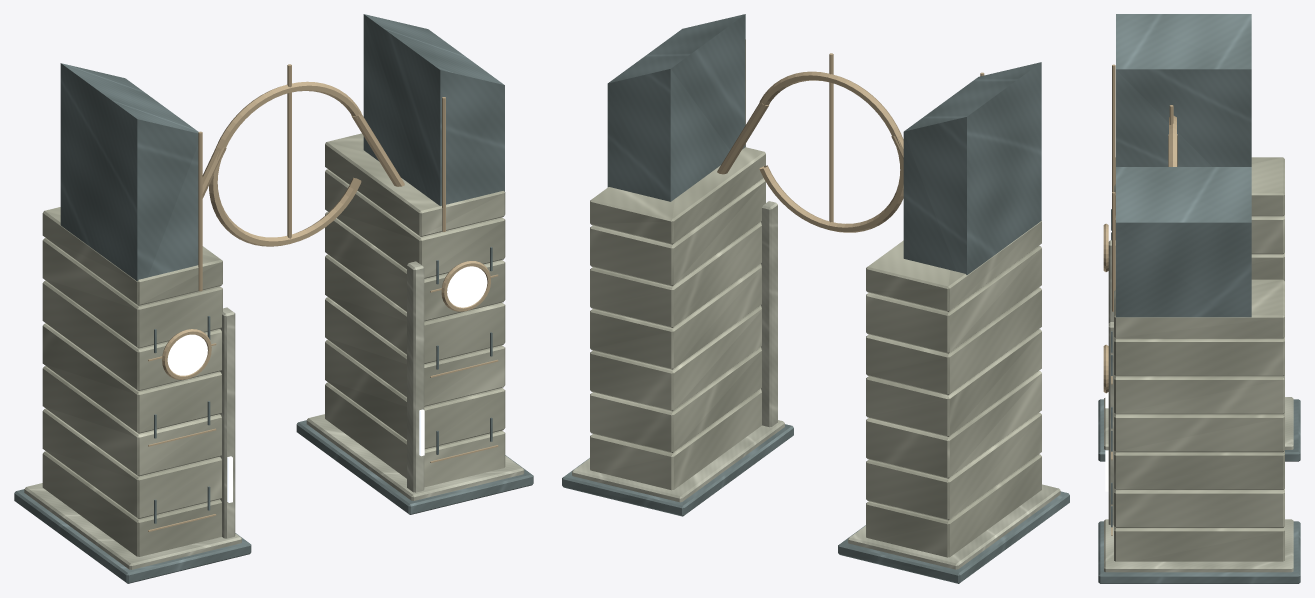
File: portal-shadow-v01.glb
3 renders of one model, left to right at view 1: azimuth 30°, elevation 25°; view 2: azimuth 150°, elevation 25°; view 3: azimuth 270°, elevation 25°, orthographic. The views are drawn at different scales.
Parts seen in each view (by area): view 1: shadow_Mumu_ivory_limestone, shadow_Mumu_blue_slate, shadow_Mumu_chisel_edges, shadow_Mumu_satin_brass, shadow_Mumu_shadow_light; view 2: shadow_Mumu_ivory_limestone, shadow_Mumu_blue_slate, shadow_Mumu_chisel_edges, shadow_Mumu_satin_brass; view 3: shadow_Mumu_ivory_limestone, shadow_Mumu_blue_slate, shadow_Mumu_chisel_edges, shadow_Mumu_satin_brass.
Boxes of the visible parts, bbox=[...] form: shadow_Mumu_ivory_limestone: bbox=[42, 133, 505, 556]; shadow_Mumu_blue_slate: bbox=[14, 14, 533, 583]; shadow_Mumu_chisel_edges: bbox=[24, 261, 524, 569]; shadow_Mumu_satin_brass: bbox=[148, 64, 498, 531]; shadow_Mumu_shadow_light: bbox=[167, 266, 487, 502]; shadow_Mumu_ivory_limestone: bbox=[590, 147, 1041, 557]; shadow_Mumu_blue_slate: bbox=[562, 14, 1069, 583]; shadow_Mumu_chisel_edges: bbox=[572, 201, 1060, 569]; shadow_Mumu_satin_brass: bbox=[717, 39, 984, 232]; shadow_Mumu_ivory_limestone: bbox=[1114, 157, 1284, 561]; shadow_Mumu_blue_slate: bbox=[1098, 14, 1300, 583]; shadow_Mumu_chisel_edges: bbox=[1104, 240, 1293, 572]; shadow_Mumu_satin_brass: bbox=[1103, 64, 1177, 535].
Bounding box in the file's own units: 6.2 × 6.6 × 3.
5 materials, 3 textured.
